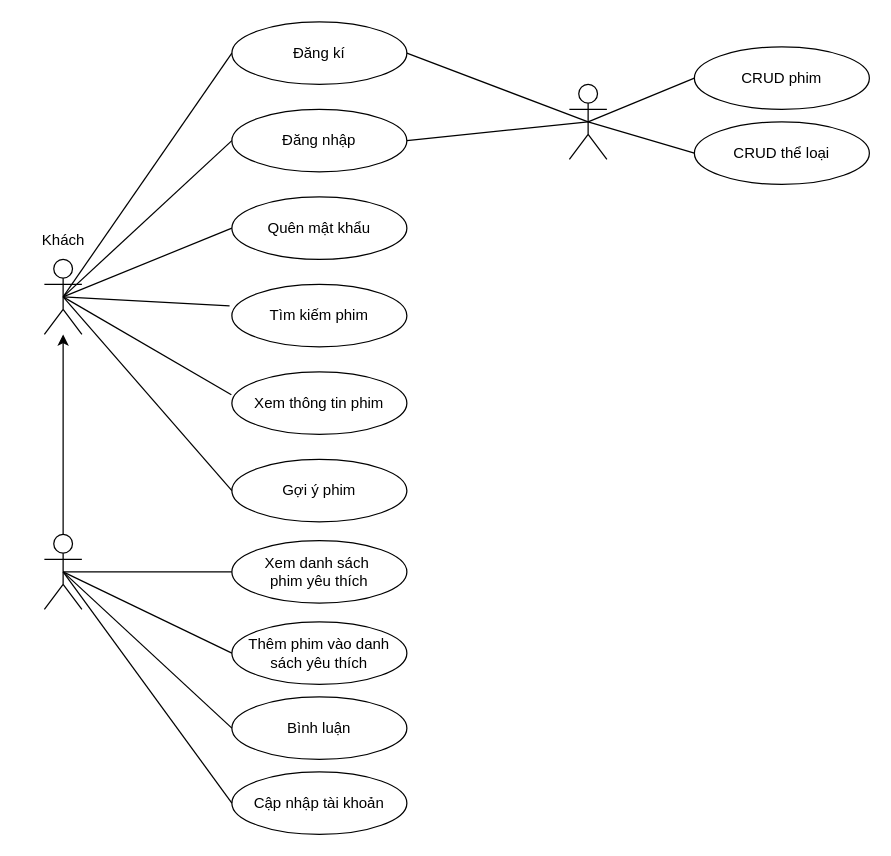
The diagram is 891 pixels wide and 856 high, and some of its shapes have lost their labels. Here are the shapes that lost their labels. From the top down, the box of each, then its label:
(568, 83, 607, 159): Người quản trị
(43, 533, 82, 609): Người dùng có tài khoản
